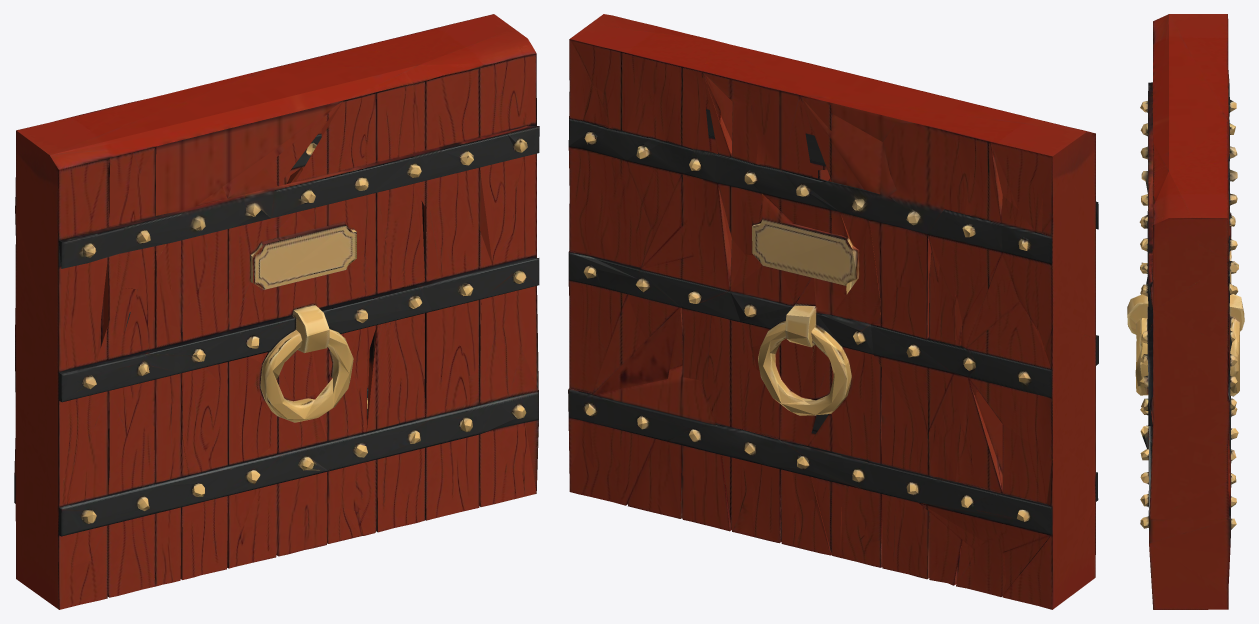
The model's file is timber-gate.glb.
3 views of the same model, side by side, from view 1: azimuth 30°, elevation 25°; view 2: azimuth 150°, elevation 25°; view 3: azimuth 270°, elevation 25° (orthographic). The views are drawn at different scales.
Bounding box in the file's own units: 1.9 × 1.71 × 0.4619.
Materials: 1 (1 with a texture image).
